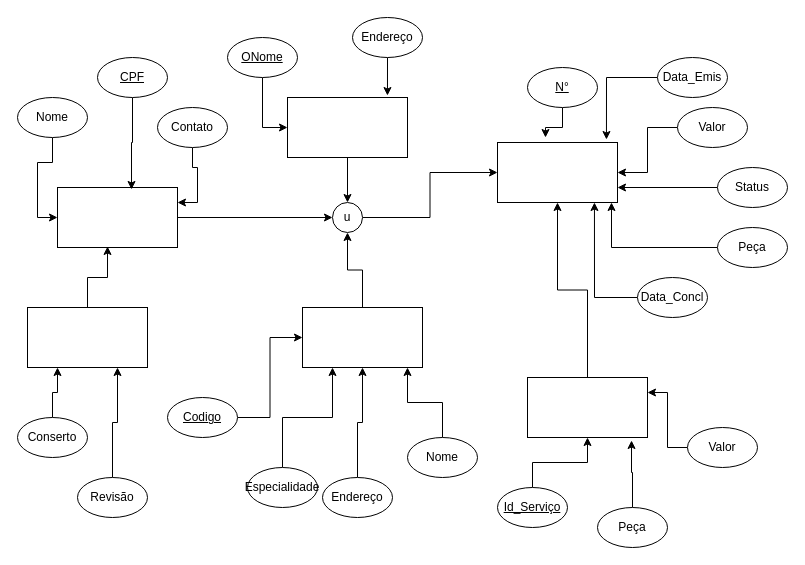
This 805x565 diagram has some shape labels left out. The box of each missing label's shape, as (x1, y1, x2, y2) in pixels:
CLIENTES: (56, 186, 178, 248)
MECANICOS: (302, 306, 422, 368)
MÃO_OBRA: (526, 376, 648, 438)
OFICINA: (286, 96, 408, 158)
OS: (496, 142, 618, 202)
VEICULOS: (26, 306, 148, 368)
